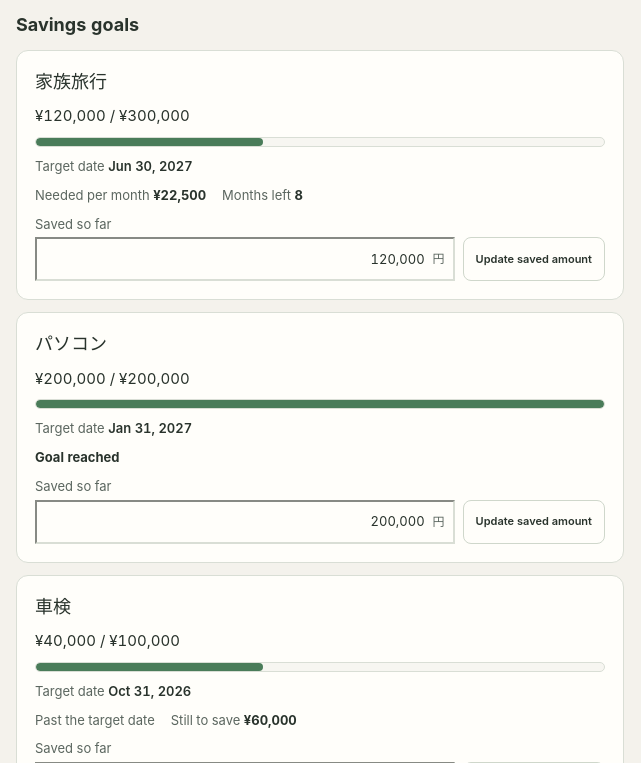
Test case: GoalsPanel saved amount › shows an alert and keeps the typed amount when the update fails
Replace the text in the field labelled "Saved so far" below "Needed per month" with "150000" at (245, 260), box [35,238,455,282]
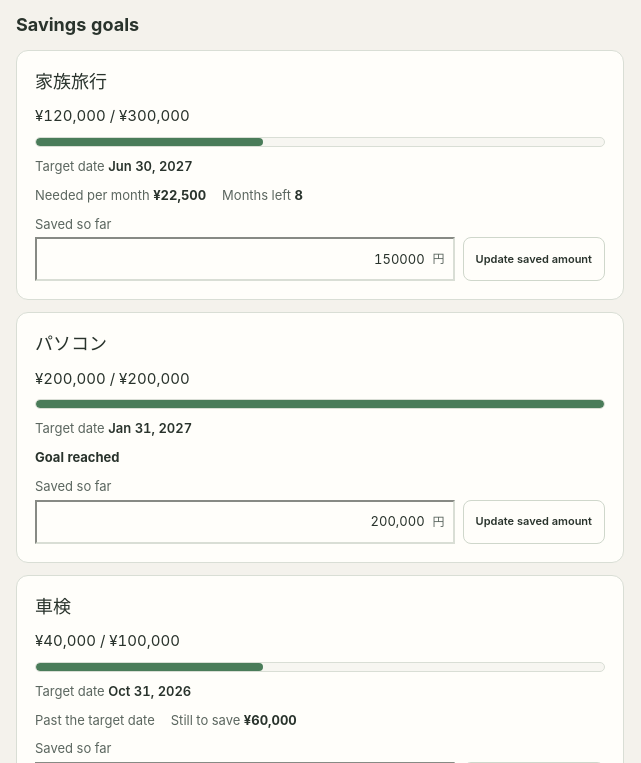
Click the button "Update saved amount" below "¥22,500" at (534, 260), box [463,238,605,282]
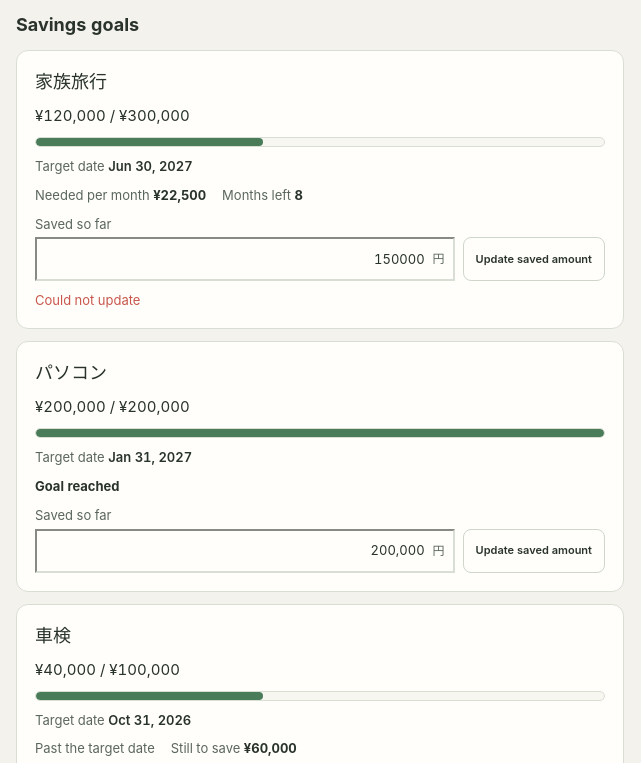
Result: the message reads "Could not update" at [35,292,140,308]
